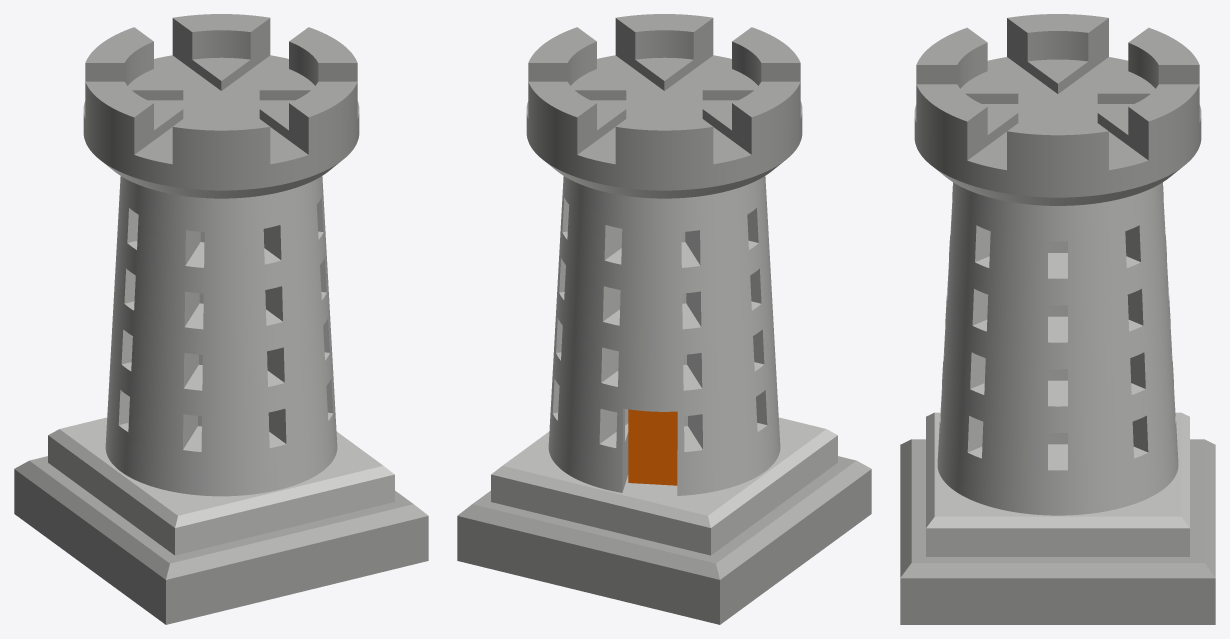
Rendered from rook_concrete.glb.
The picture shows the model from 3 angles, left to right: view 1: azimuth 30°, elevation 25°; view 2: azimuth 150°, elevation 25°; view 3: azimuth 270°, elevation 25°; orthographic projection. The views are drawn at different scales.
Visible parts, largest first — view 1: =>[0:1:1:10], =>[0:1:1:12], =>[0:1:1:5], =>[0:1:1:8]; view 2: =>[0:1:1:10], =>[0:1:1:12], =>[0:1:1:5], =>[0:1:1:8], =>[0:1:1:14]; view 3: =>[0:1:1:10], =>[0:1:1:12], =>[0:1:1:5], =>[0:1:1:8].
Boxes of the visible parts, box(x1,y1,x2,y2) form: =>[0:1:1:10]: box(105, 176, 337, 496); =>[0:1:1:12]: box(83, 14, 359, 198); =>[0:1:1:5]: box(14, 456, 428, 624); =>[0:1:1:8]: box(48, 417, 394, 555); =>[0:1:1:10]: box(548, 176, 780, 495); =>[0:1:1:12]: box(526, 14, 802, 198); =>[0:1:1:5]: box(457, 456, 871, 624); =>[0:1:1:8]: box(491, 417, 837, 555); =>[0:1:1:14]: box(628, 409, 677, 485); =>[0:1:1:10]: box(937, 182, 1178, 515); =>[0:1:1:12]: box(914, 14, 1201, 205); =>[0:1:1:5]: box(900, 439, 1215, 624); =>[0:1:1:8]: box(926, 412, 1189, 556).
Size of the model in its own units: 0.11 by 0.186 by 0.11.
